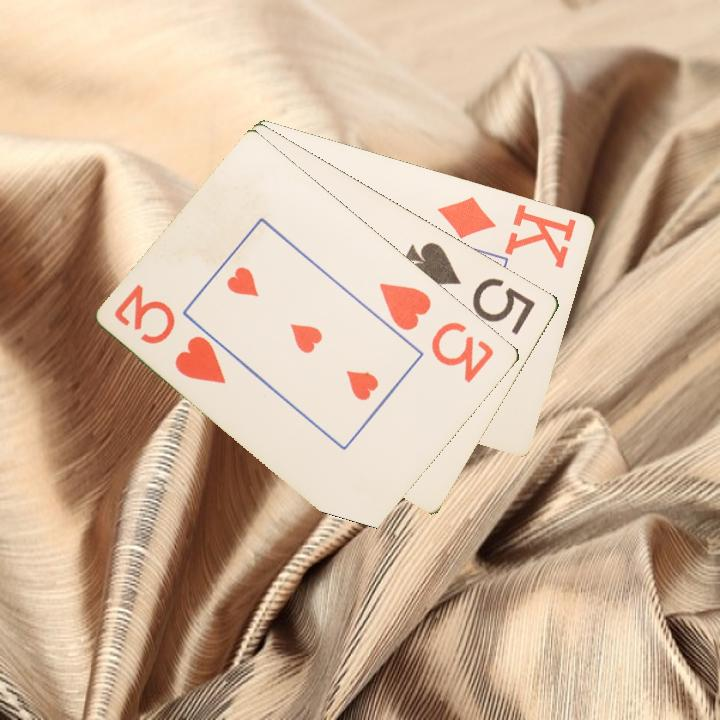3h: (376, 278, 498, 386), (111, 280, 230, 387)
5s: (400, 238, 539, 338)
Kd: (434, 192, 580, 271)
